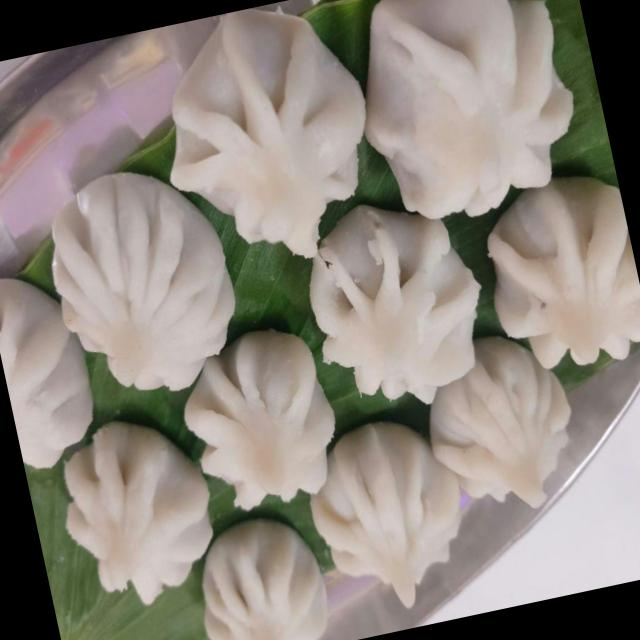modak: (139, 0, 393, 279), (341, 0, 596, 226), (286, 193, 498, 437), (27, 164, 251, 393), (463, 161, 640, 410), (39, 417, 232, 627), (162, 318, 352, 516), (302, 415, 476, 616), (420, 334, 586, 531), (0, 254, 102, 475), (171, 506, 335, 640)
